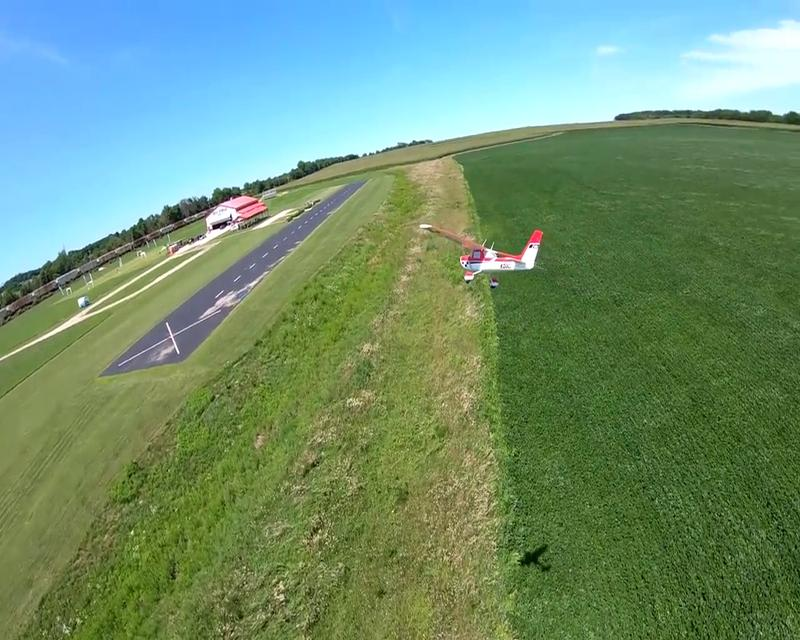UAV: (418, 221, 544, 288)
